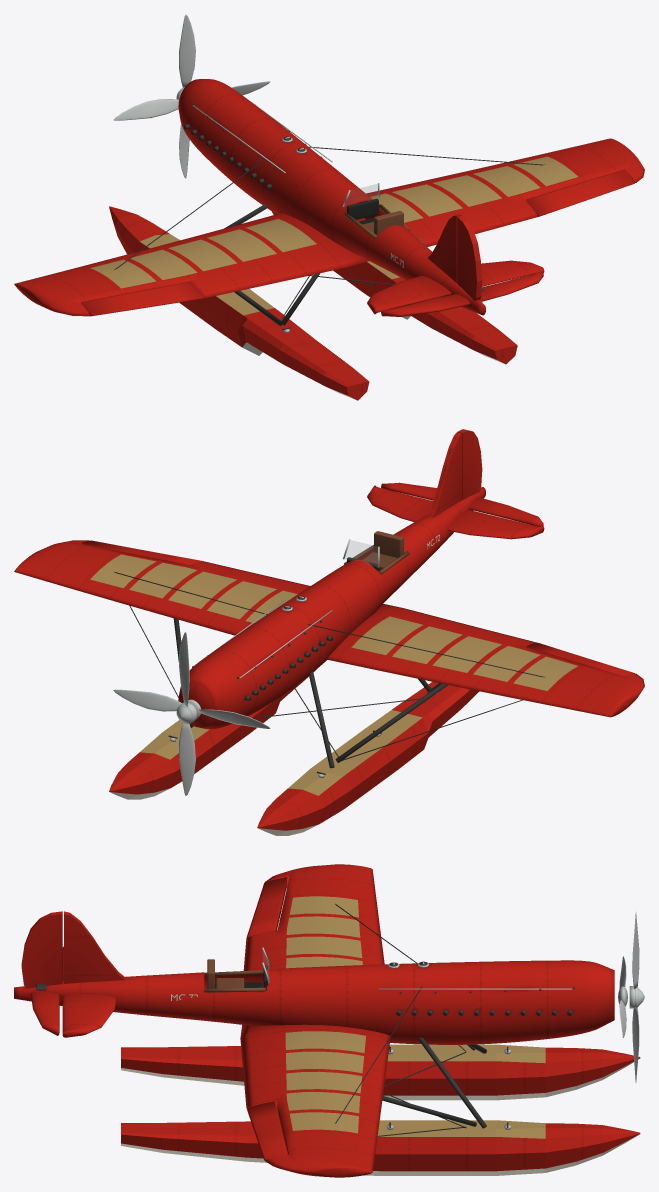
3 views of the same model, one above another, from view 1: azimuth 30°, elevation 25°; view 2: azimuth 150°, elevation 25°; view 3: azimuth 270°, elevation 25° (orthographic). The views are drawn at different scales.
Visible parts, largest first — view 1: AircraftBody, Port stepped racing float, Starboard stepped racing float, Airfoil aileron with hinge clearance, Airfoil aileron with hinge clearance.001, Rounded elevator, Broad rounded rudder, Metal racing propeller blade.001, Metal racing propeller blade.003; view 2: AircraftBody, Port stepped racing float, Starboard stepped racing float, Rounded elevator, Broad rounded rudder, Metal racing propeller blade, Metal racing propeller blade.002, Airfoil aileron with hinge clearance, Airfoil aileron with hinge clearance.001, Metal racing propeller blade.003, Metal racing propeller blade.001; view 3: AircraftBody, Starboard stepped racing float, Port stepped racing float, Broad rounded rudder, Airfoil aileron with hinge clearance.001, Airfoil aileron with hinge clearance, Rounded elevator.
Boxes of the visible parts, x1,y1,x2,y2 form: AircraftBody: [14, 79, 644, 332]; Port stepped racing float: [109, 206, 369, 400]; Starboard stepped racing float: [272, 211, 517, 364]; Airfoil aileron with hinge clearance: [81, 281, 203, 316]; Airfoil aileron with hinge clearance.001: [526, 170, 634, 216]; Rounded elevator: [381, 271, 543, 316]; Broad rounded rudder: [457, 215, 482, 300]; Metal racing propeller blade.001: [179, 14, 195, 87]; Metal racing propeller blade.003: [113, 99, 178, 120]; AircraftBody: [14, 432, 644, 777]; Port stepped racing float: [257, 681, 479, 835]; Starboard stepped racing float: [109, 669, 316, 799]; Rounded elevator: [381, 482, 543, 526]; Broad rounded rudder: [457, 429, 482, 499]; Metal racing propeller blade: [179, 723, 195, 795]; Metal racing propeller blade.002: [113, 689, 181, 711]; Airfoil aileron with hinge clearance: [526, 643, 634, 676]; Airfoil aileron with hinge clearance.001: [81, 540, 203, 564]; Metal racing propeller blade.003: [199, 709, 270, 728]; Metal racing propeller blade.001: [179, 632, 189, 706]; AircraftBody: [14, 864, 644, 1177]; Starboard stepped racing float: [121, 1120, 640, 1175]; Port stepped racing float: [121, 1044, 640, 1100]; Broad rounded rudder: [21, 911, 62, 988]; Airfoil aileron with hinge clearance.001: [247, 1101, 287, 1160]; Airfoil aileron with hinge clearance: [246, 877, 287, 937]; Rounded elevator: [31, 991, 59, 1035].
Bounding box in the file's own units: 9.48 × 3.3 × 8.32.
9 materials, 1 textured.
